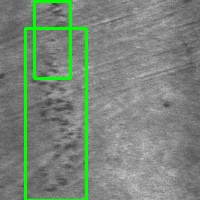rolled-in_scale: (25, 28, 86, 200), (34, 1, 70, 78)
